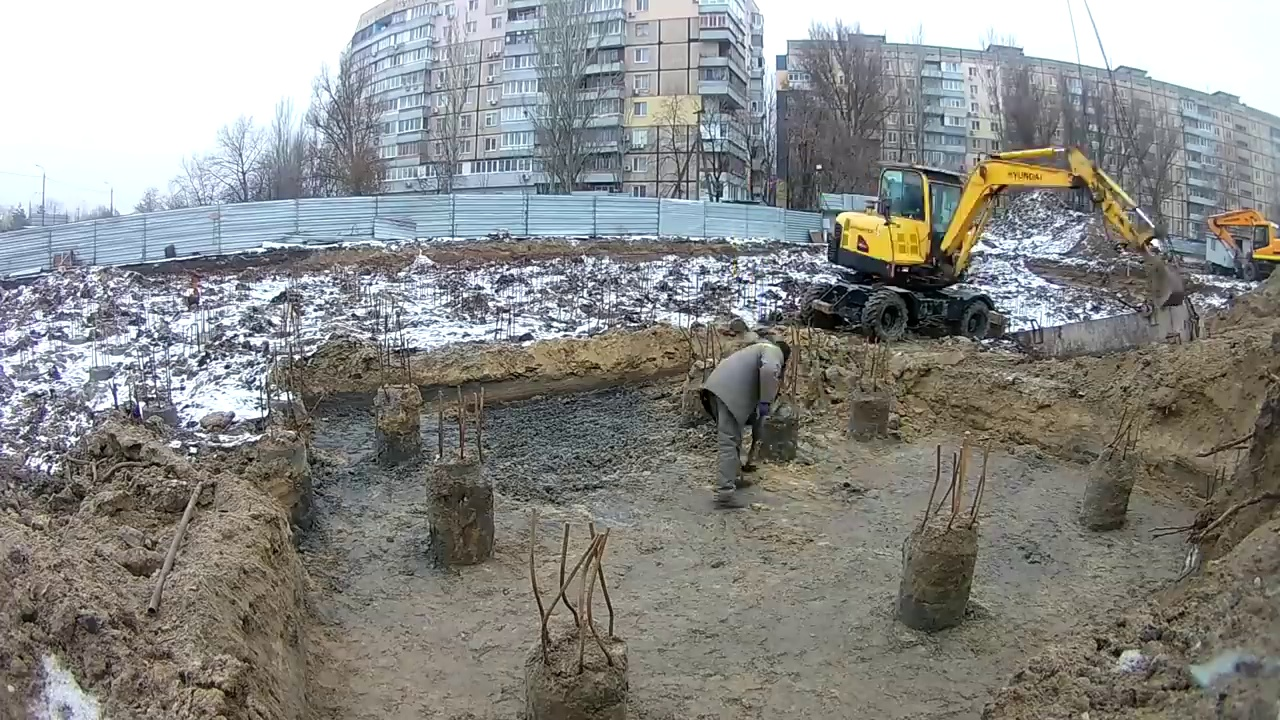person: (697, 335, 796, 488)
